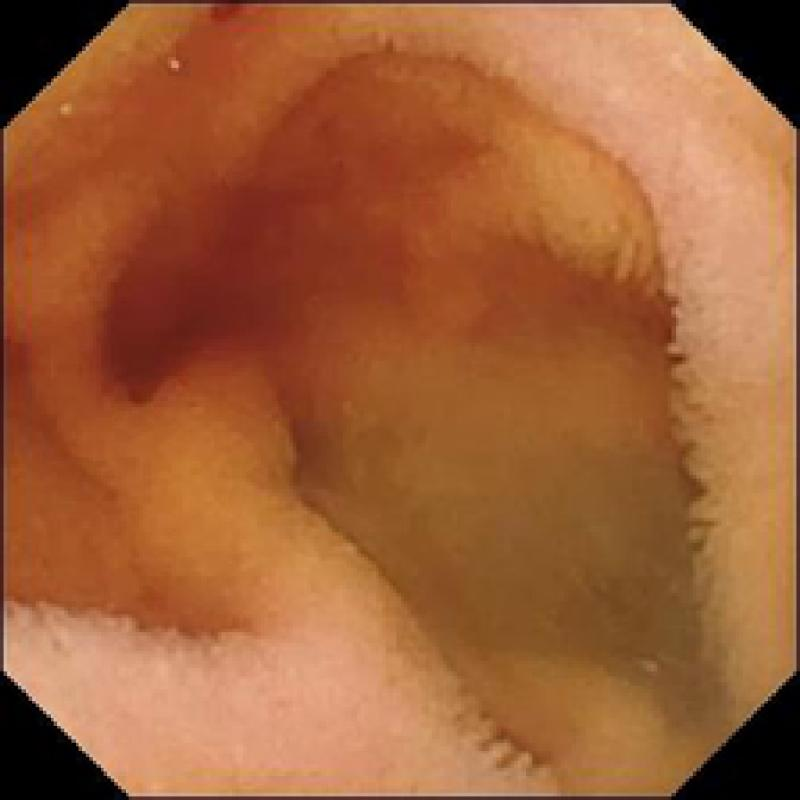bleeding: (89, 120, 400, 403), (211, 0, 250, 25)
